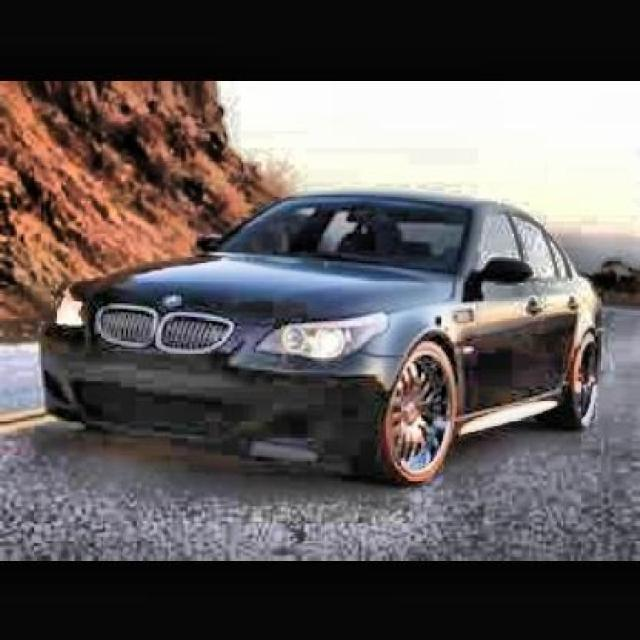black: (39, 184, 598, 471)
